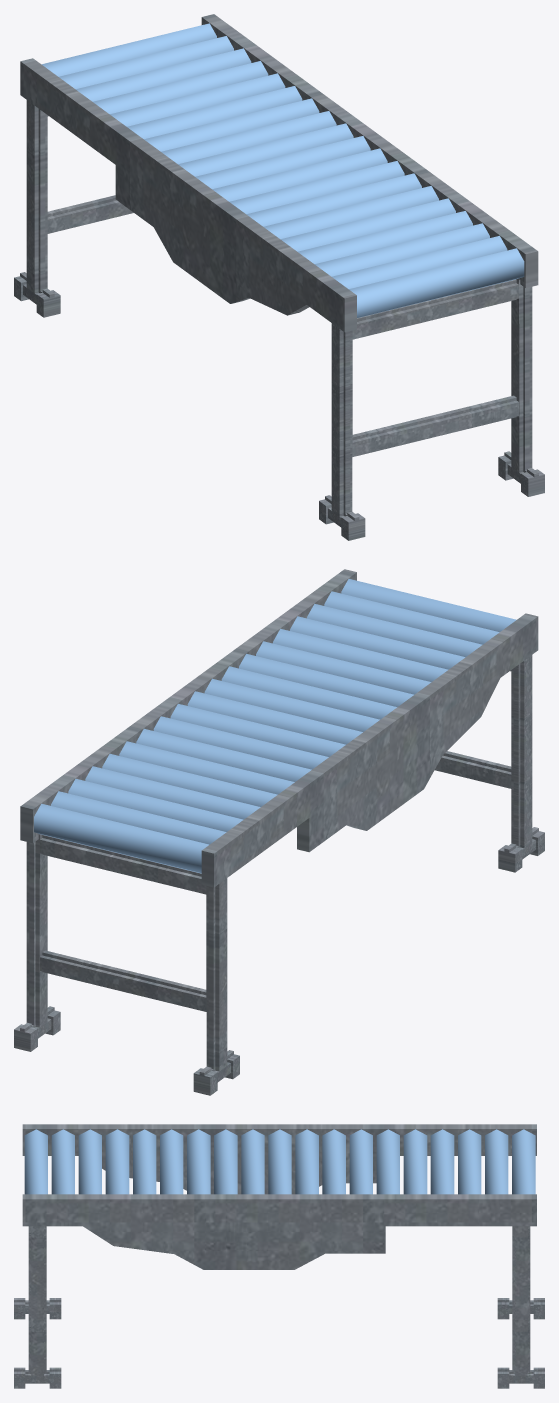
The model's file is Conveyor1.dae.
3 views of the same model, one above another, from view 1: azimuth 30°, elevation 25°; view 2: azimuth 150°, elevation 25°; view 3: azimuth 270°, elevation 25° (orthographic). The views are drawn at different scales.
Visible parts, largest first — view 1: LOD_0; view 2: LOD_0; view 3: LOD_0.
Part boxes in pixels (x1,y1,x2,y2): LOD_0: (14, 14, 544, 540); LOD_0: (14, 569, 544, 1095); LOD_0: (14, 1124, 544, 1388).
Size of the model in its own units: 3.86 by 11.4 by 4.48.
